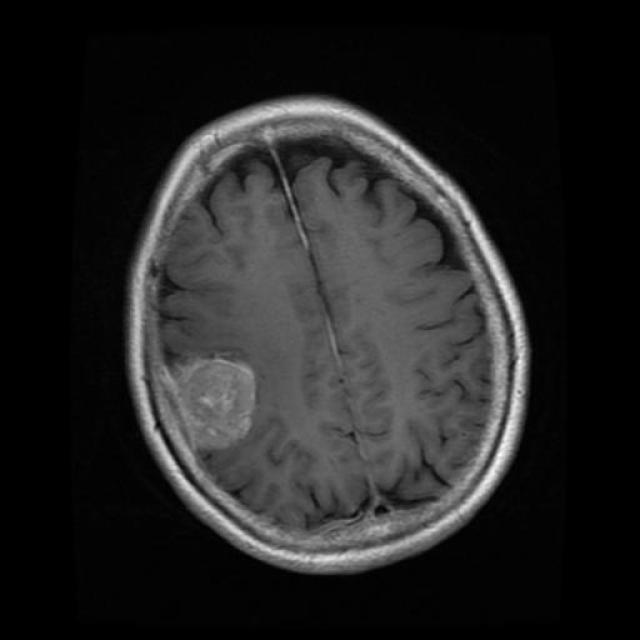meningioma: (171, 359, 258, 454)
